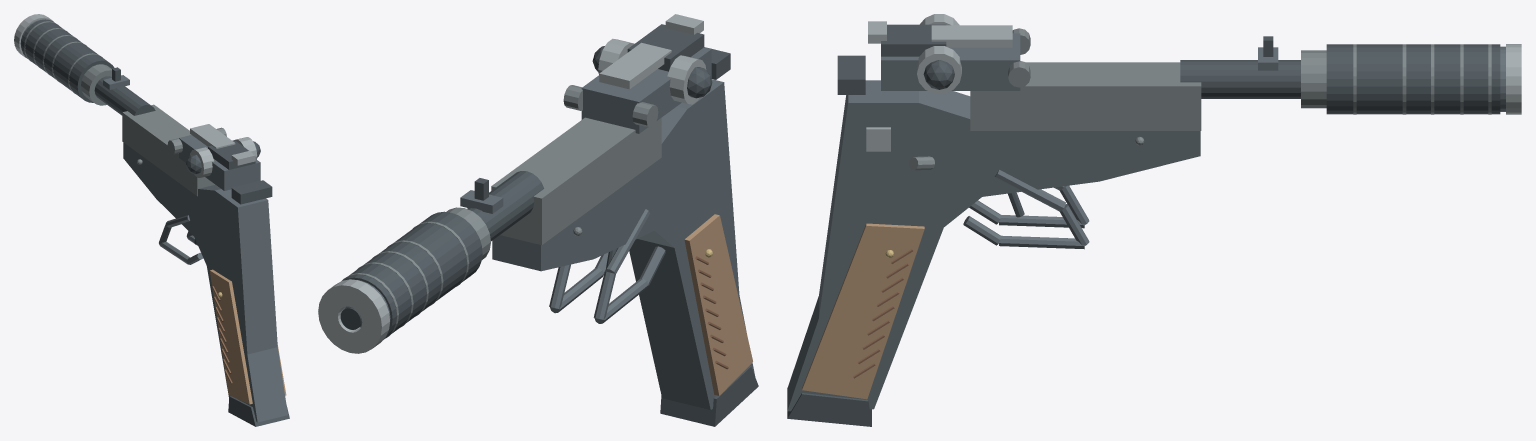
3 renders of one model, left to right at view 1: azimuth 30°, elevation 25°; view 2: azimuth 150°, elevation 25°; view 3: azimuth 270°, elevation 25°, orthographic. The views are drawn at different scales.
Parts seen in each view (by area): view 1: BluedSteel, DarkSteel, Gunmetal, PistolGripWood, EdgeSteel, WoodDark; view 2: BluedSteel, DarkSteel, Gunmetal, EdgeSteel, PistolGripWood, WoodDark; view 3: BluedSteel, DarkSteel, Gunmetal, PistolGripWood, EdgeSteel, WoodDark.
Boxes of the visible parts, x1,y1,x2,y2 form: BluedSteel: (20, 19, 287, 422); DarkSteel: (21, 19, 289, 426); Gunmetal: (24, 21, 226, 196); PistolGripWood: (209, 269, 286, 404); EdgeSteel: (14, 14, 257, 177); WoodDark: (212, 286, 232, 384); BluedSteel: (345, 47, 755, 409); DarkSteel: (342, 24, 758, 426); Gunmetal: (342, 85, 661, 337); EdgeSteel: (318, 14, 706, 353); PistolGripWood: (684, 214, 752, 395); WoodDark: (695, 256, 728, 369); BluedSteel: (787, 33, 1505, 411); DarkSteel: (787, 24, 1500, 426); Gunmetal: (908, 28, 1491, 170); PistolGripWood: (802, 223, 924, 399); EdgeSteel: (866, 14, 1521, 151); WoodDark: (853, 248, 913, 378).
Size of the model in its own units: 0.114 by 0.3785 by 0.652.
